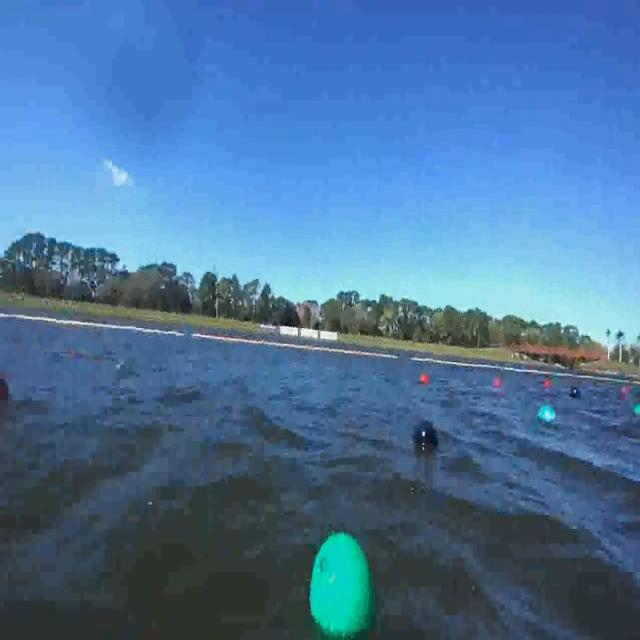black-buoy: (412, 422, 439, 456)
green-buoy: (308, 531, 376, 640), (540, 405, 557, 427), (632, 403, 640, 418)
red-buoy: (420, 374, 430, 386), (493, 378, 502, 389)
